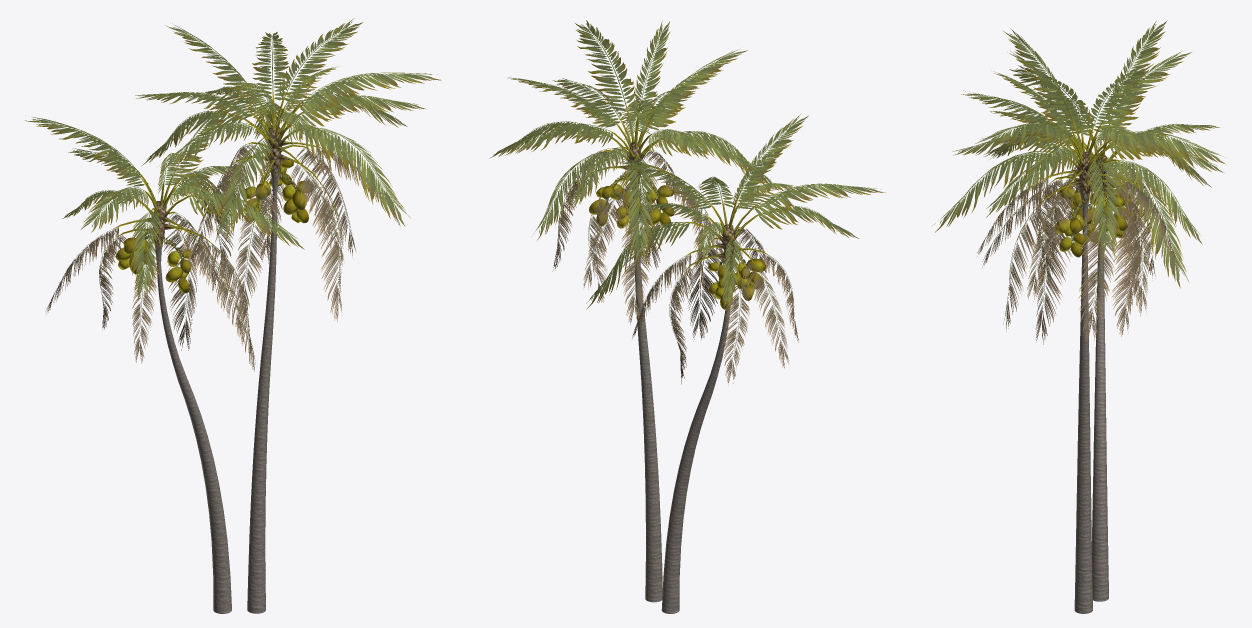
File: coconut_tree.fbx
3 views of the same model, side by side, from view 1: azimuth 30°, elevation 25°; view 2: azimuth 150°, elevation 25°; view 3: azimuth 270°, elevation 25° (orthographic). The views are drawn at different scales.
Parts seen in each view (by area): view 1: coconut palm leaf 1_5, coconut palm leaf 2_6, palm02_0, coconut 2_4, frond stem_3, palm top_1; view 2: coconut palm leaf 1_5, coconut palm leaf 2_6, palm02_0, coconut 2_4, frond stem_3; view 3: coconut palm leaf 1_5, coconut palm leaf 2_6, palm02_0, coconut 2_4, frond stem_3, palm top_1.
Boxes of the visible parts, x1=… form: coconut palm leaf 1_5: x1=25, y1=18, x2=441, y2=301; coconut palm leaf 2_6: x1=45, y1=144, x2=400, y2=371; palm02_0: x1=155, y1=179, x2=278, y2=613; coconut 2_4: x1=115, y1=153, x2=312, y2=293; frond stem_3: x1=113, y1=90, x2=321, y2=256; palm top_1: x1=153, y1=126, x2=280, y2=249; coconut palm leaf 1_5: x1=489, y1=20, x2=885, y2=309; coconut palm leaf 2_6: x1=552, y1=148, x2=798, y2=385; palm02_0: x1=632, y1=193, x2=732, y2=613; coconut 2_4: x1=589, y1=184, x2=765, y2=309; frond stem_3: x1=590, y1=104, x2=768, y2=280; coconut palm leaf 1_5: x1=932, y1=20, x2=1225, y2=288; coconut palm leaf 2_6: x1=977, y1=163, x2=1179, y2=344; palm02_0: x1=1074, y1=203, x2=1108, y2=613; coconut 2_4: x1=1054, y1=179, x2=1136, y2=257; frond stem_3: x1=1039, y1=118, x2=1129, y2=215; palm top_1: x1=1079, y1=151, x2=1107, y2=204.
Size of the model in its own units: 438 by 624 by 319.
